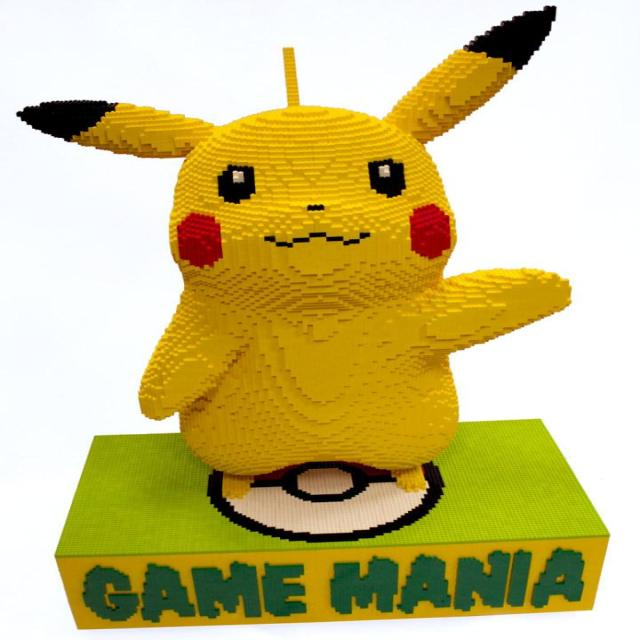pikachu: (17, 7, 570, 497)
